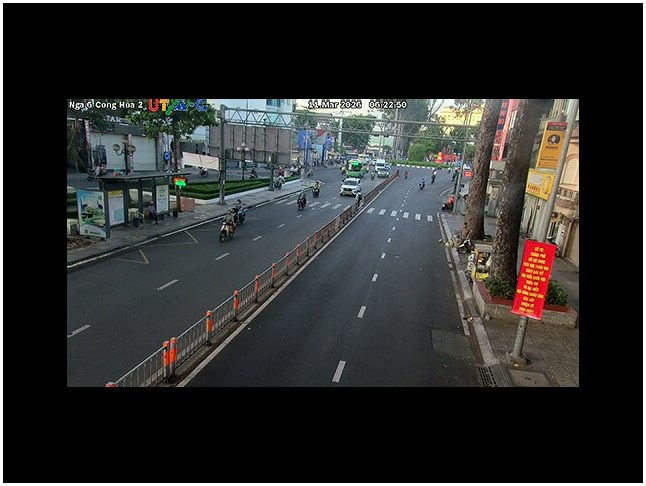car: (340, 178, 362, 196), (375, 160, 389, 177)
motorbike: (218, 219, 236, 242)
